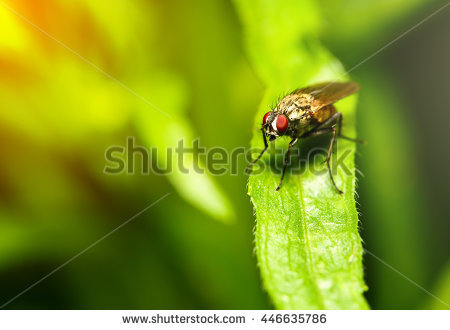green bottles fly: (225, 45, 363, 191)
